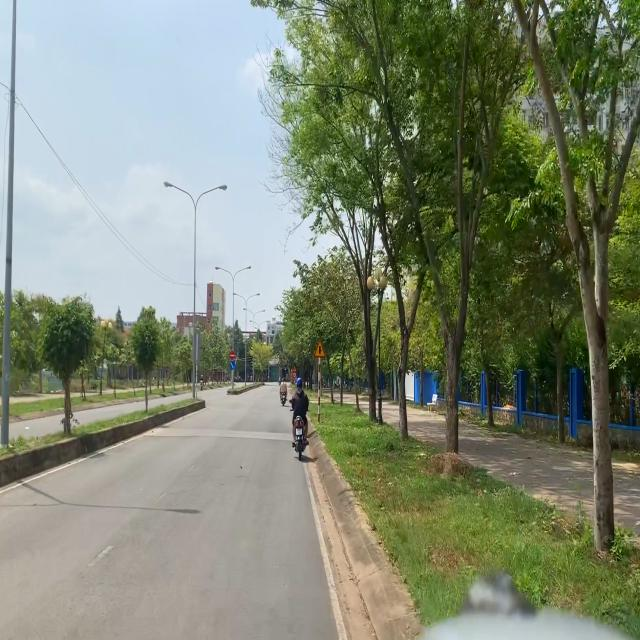Cam nguoc chieu: (230, 351, 234, 360)
Giao voi duong khong uu tien: (314, 339, 326, 359)
Hieu lenh: (230, 361, 235, 370)
